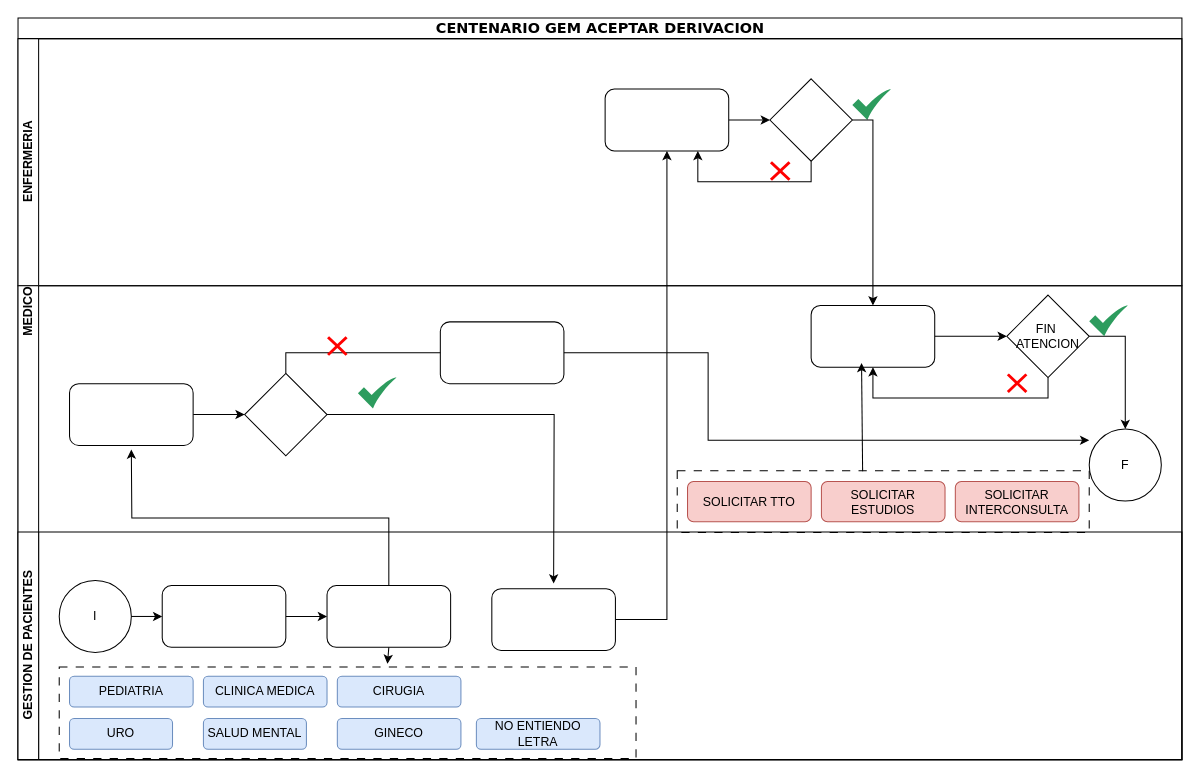
This 1200x778 diagram has some shape labels left out. The shapes that lost their labels are listed below. From the top down, each one's centre as x and y in pixels, then its label:
(666,119): REALIZAR TRIAGE
(810,119): FIN TRIAGE
(501,352): REDACTAR INFORME RECHAZO
(872,335): ATENDER PACIENTE
(130,414): EVALUAR DERIVACION
(285,414): ACEPTA
(223,616): RECIBIR LLAMADO DERIVACION
(388,616): DERIVAR LLAMADA LA SECTOR
(553,619): RECEPCIONAR PACIENTE
